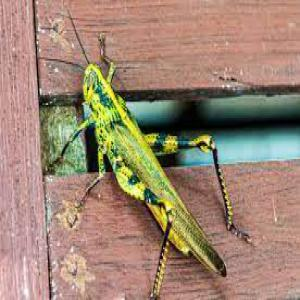locust: (61, 23, 227, 290)
